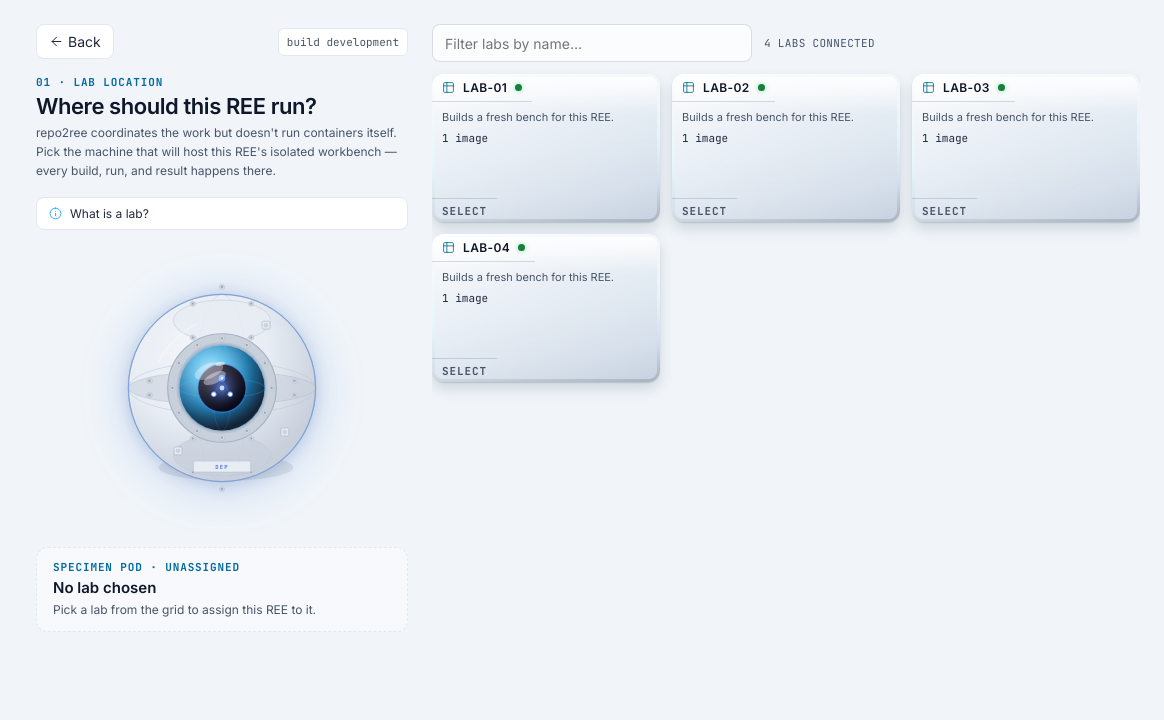
Test: choosing a lab › reports a filter that matches nothing instead of showing an empty grid
Type "nothing" into the search field labelled "Filter labs" at (592, 43), box [432,24,752,62]
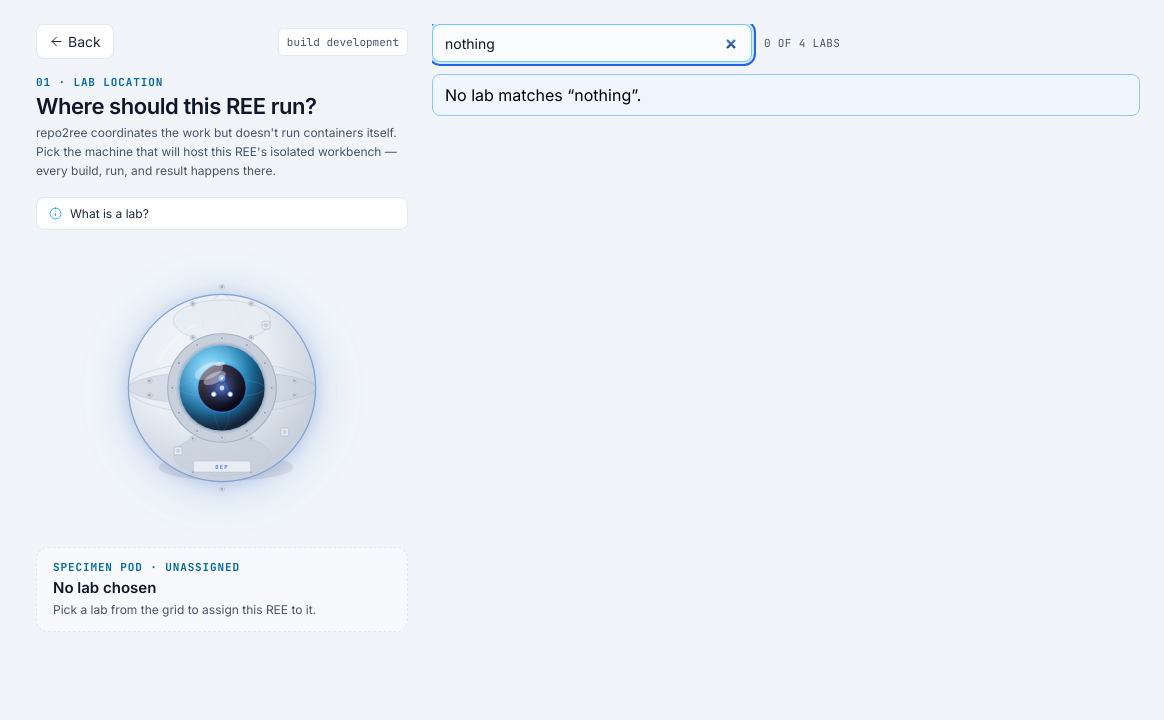
Result: the text "No lab matches “nothing”." is shown at [432,74,1140,116]
